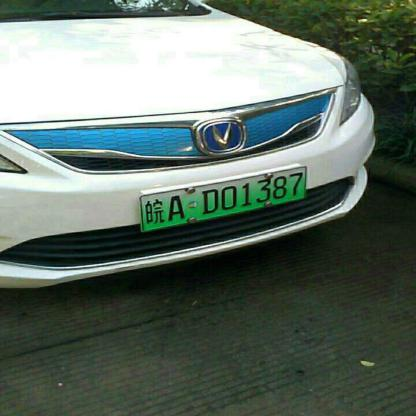lp: (140, 166, 306, 232)
